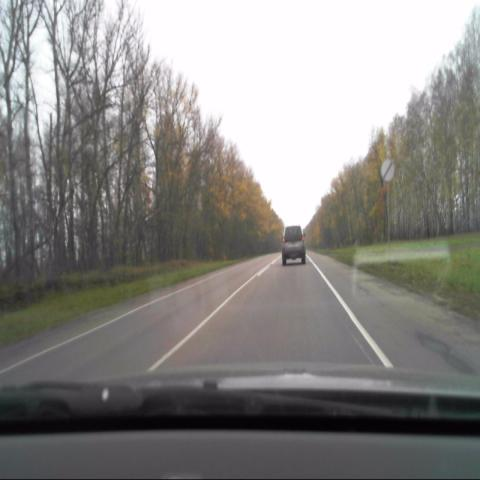3_31: (380, 157, 394, 181)
